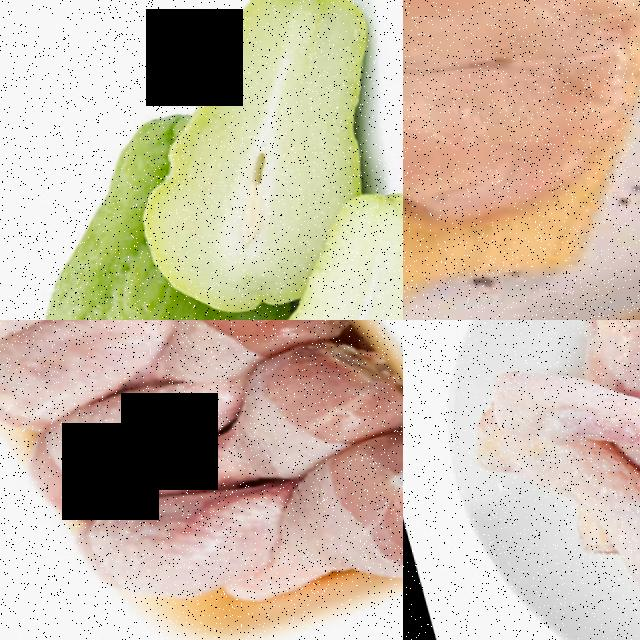chayote: (116, 0, 331, 286)
chicken breast: (403, 38, 640, 249), (403, 0, 630, 91)
chicken thigh: (113, 332, 403, 505), (472, 322, 640, 602), (193, 422, 403, 611), (0, 368, 244, 518), (544, 428, 640, 640)
